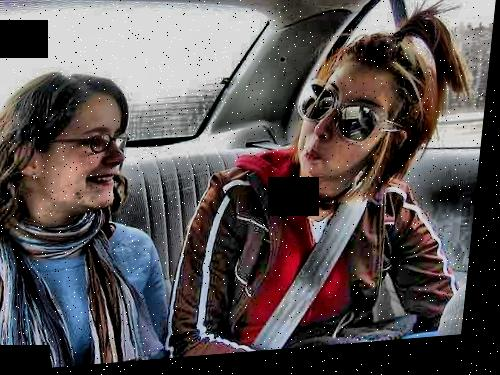seatbelt: (275, 191, 386, 325)
